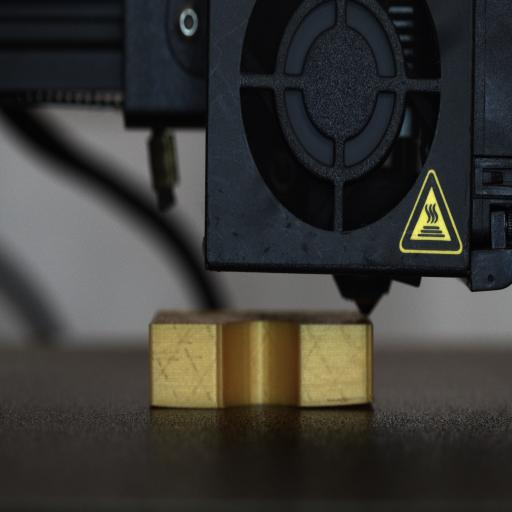warp: (312, 389, 379, 415)
